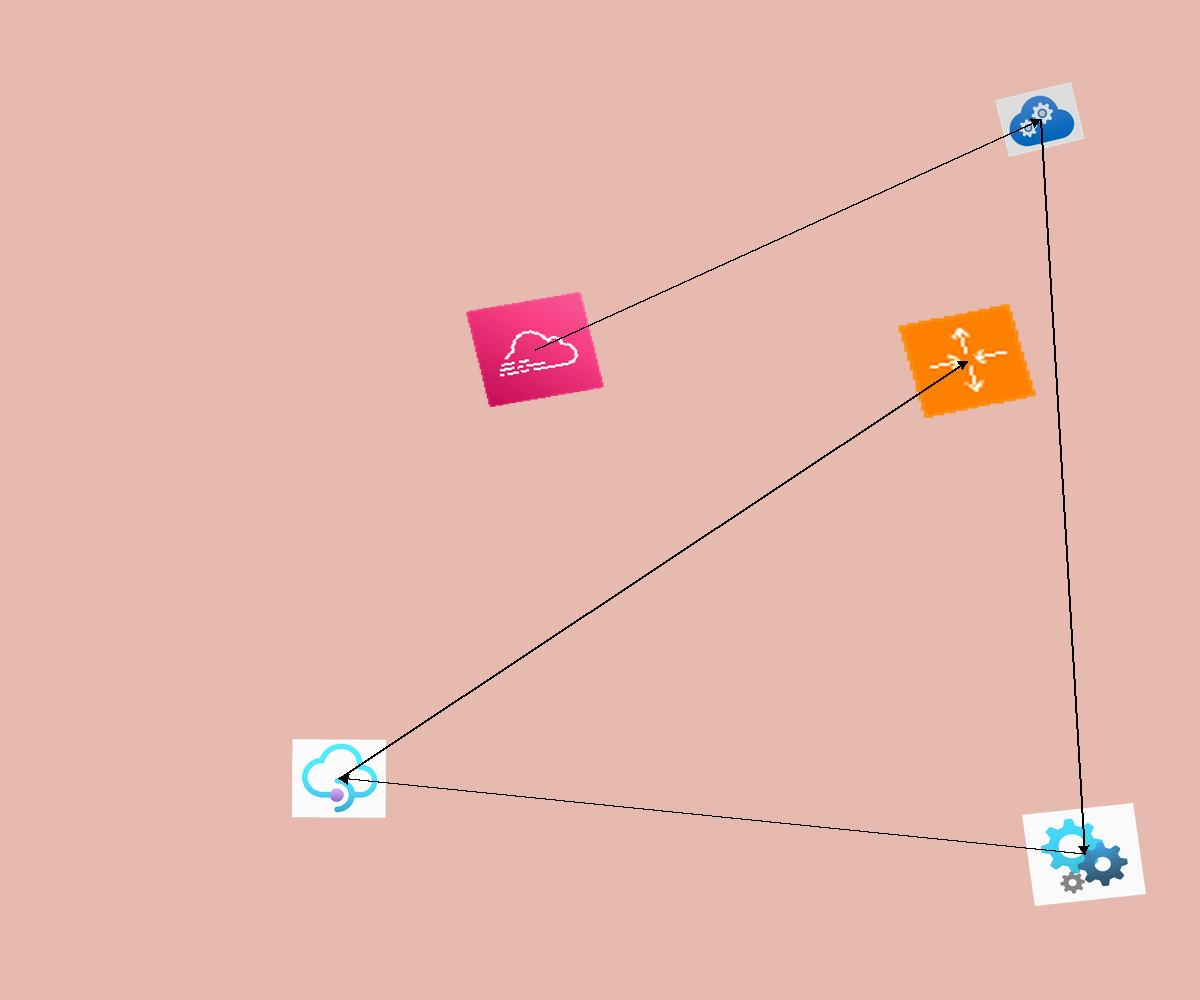AWS-CloudTrail: (465, 291, 605, 408)
AWS-Scaling-group: (896, 302, 1038, 420)
Azure_api: (1022, 803, 1146, 906)
Azure_api_gateway: (292, 739, 386, 818)
Azure_cloud_services: (995, 82, 1085, 157)
